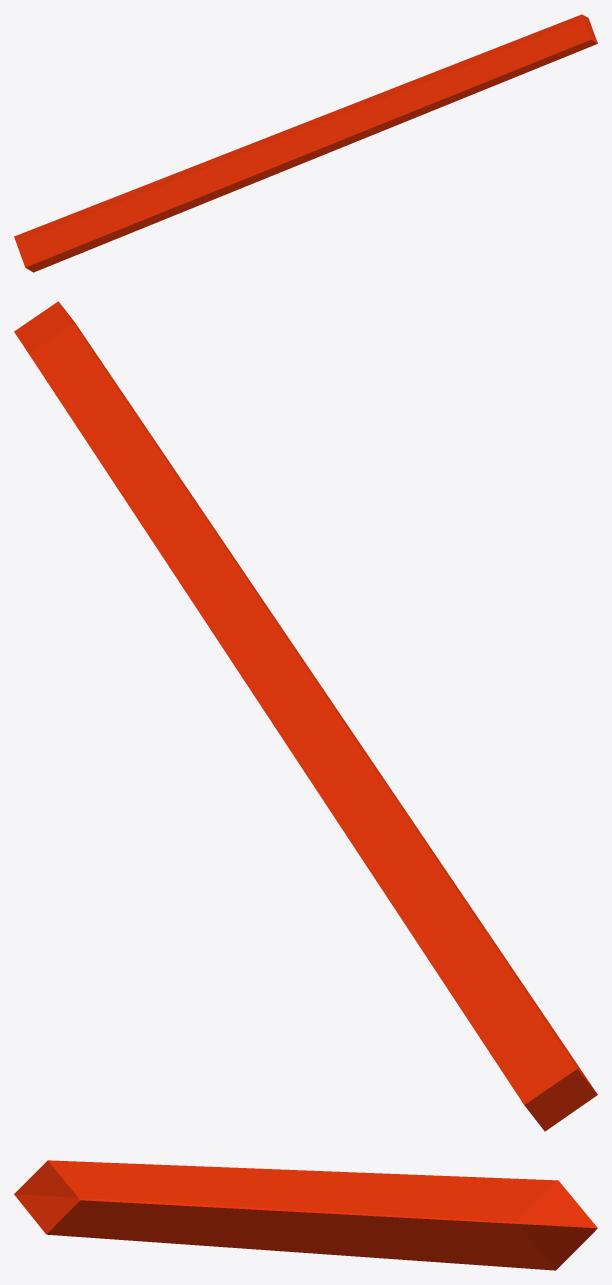
File: Event_421364160_EBrechit_18.fbx
3 renders of one model, top to bottom at view 1: azimuth 30°, elevation 25°; view 2: azimuth 150°, elevation 25°; view 3: azimuth 270°, elevation 25°, orthographic. The views are drawn at different scales.
Visible parts, largest first — view 1: Model; view 2: Model; view 3: Model.
Boxes of the visible parts, x1,y1,x2,y2 form: Model: [14, 14, 597, 272]; Model: [14, 301, 597, 1131]; Model: [14, 1160, 597, 1270].
Size of the model in its own units: 1.03 by 0.5764 by 0.6413.
